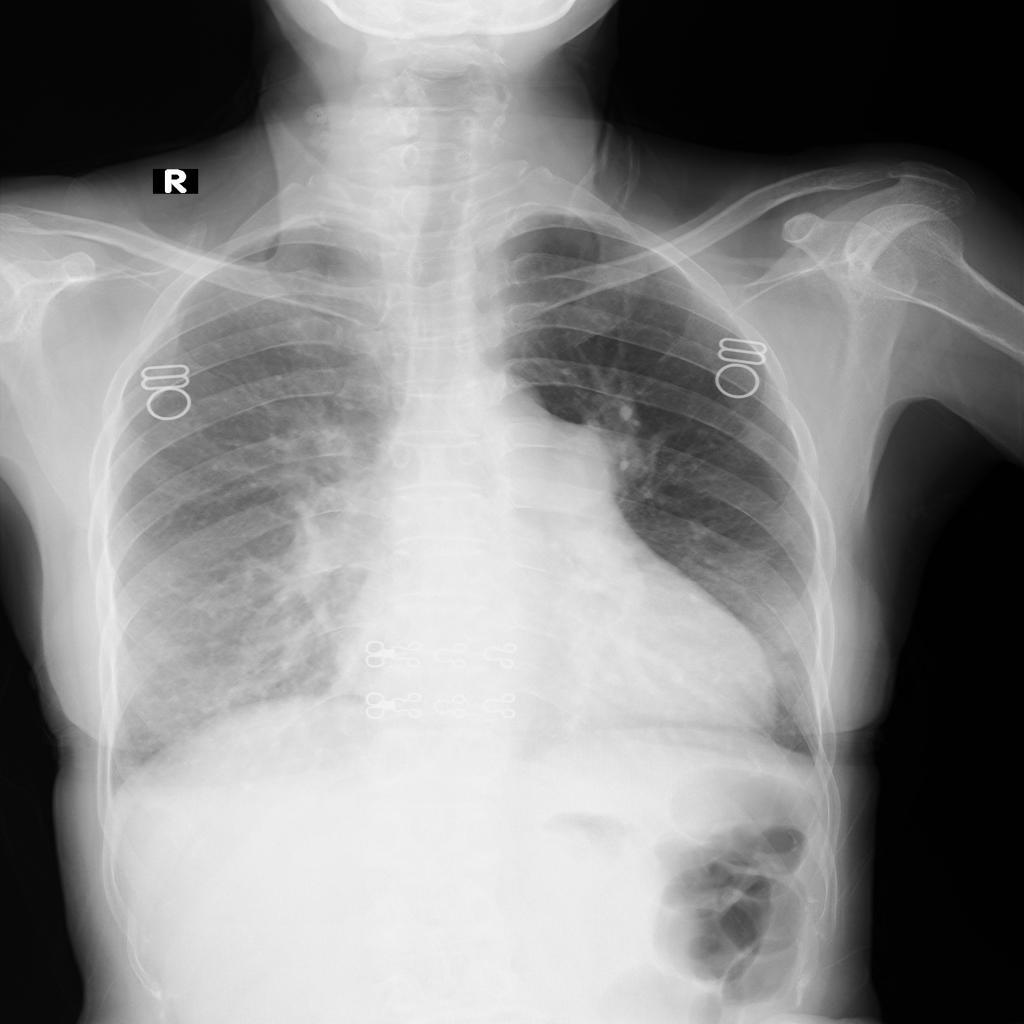Nodule: (534, 417, 616, 510)
